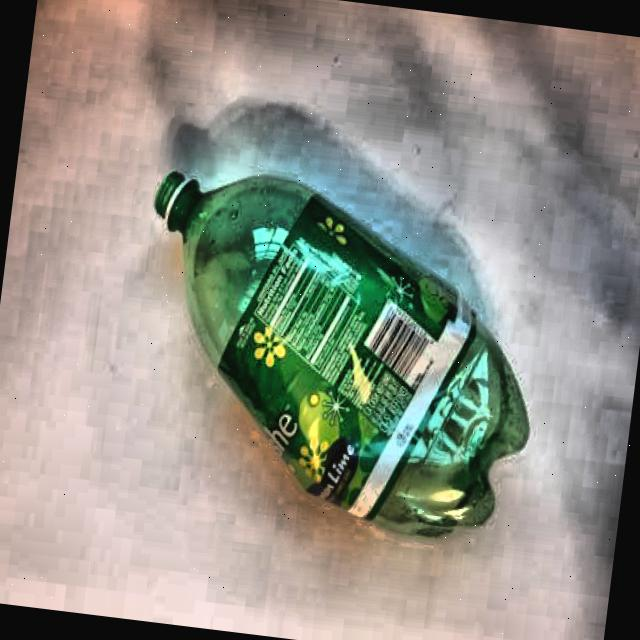plastic: (114, 160, 553, 556)
